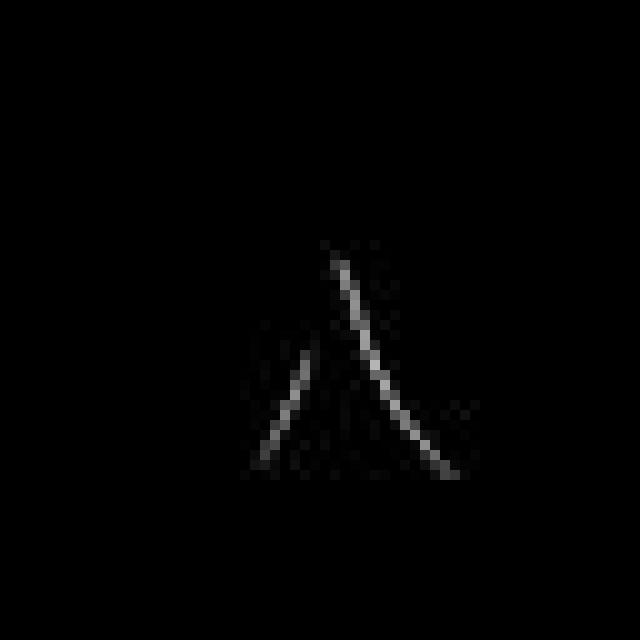8 -eight-: (239, 253, 465, 498)
